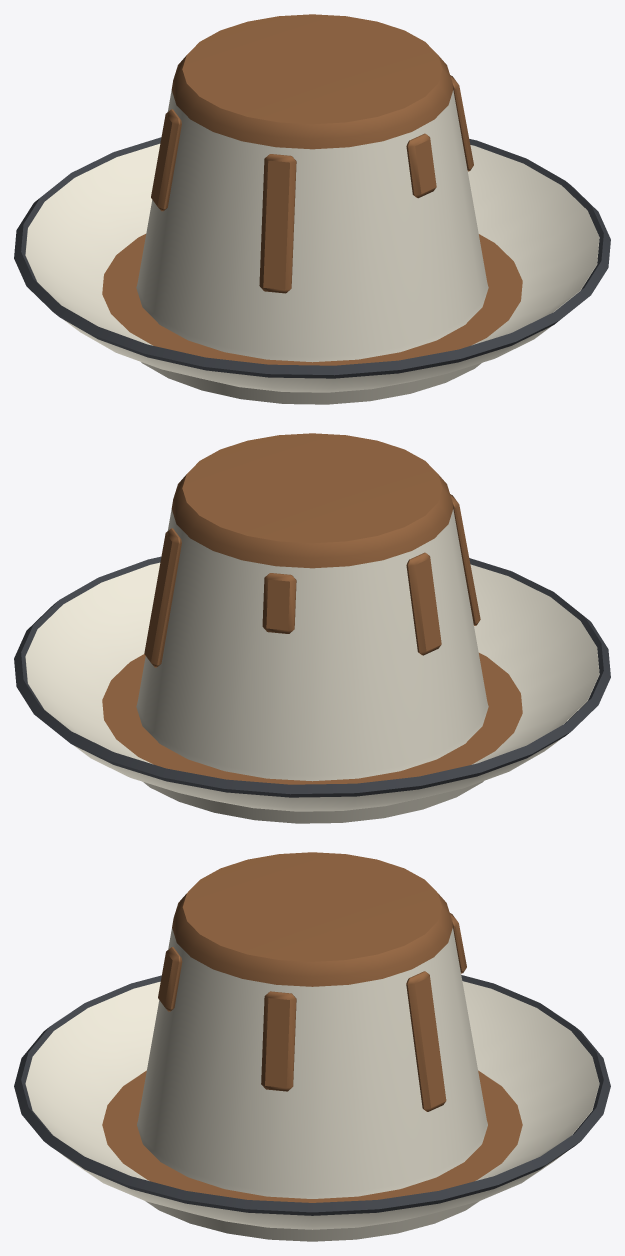
The model's file is cook_custard.glb.
3 renders of one model, top to bottom at view 1: azimuth 30°, elevation 25°; view 2: azimuth 150°, elevation 25°; view 3: azimuth 270°, elevation 25°, orthographic.
Parts seen in each view (by area): view 1: body; view 2: body; view 3: body.
Part boxes in pixels (x1,y1,x2,y2): body: (14,14,610,404); body: (14,433,610,823); body: (14,852,610,1241).
Bounding box in the file's own units: 0.0589 × 0.0276 × 0.0589.
